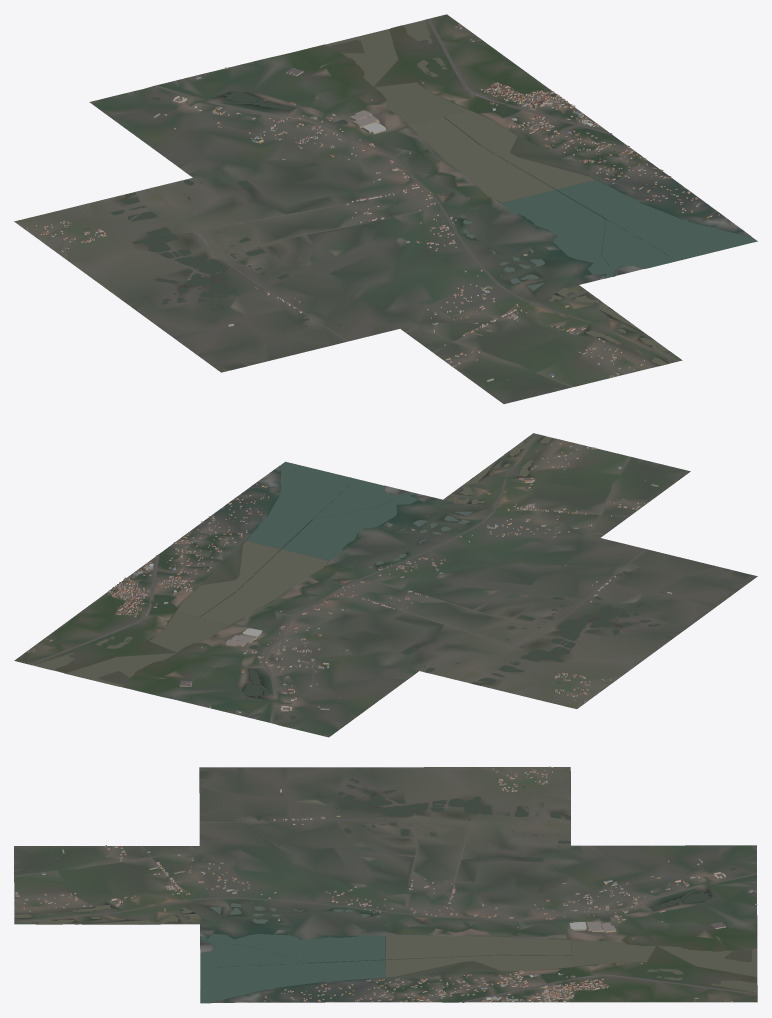
3 renders of one model, top to bottom at view 1: azimuth 30°, elevation 25°; view 2: azimuth 150°, elevation 25°; view 3: azimuth 270°, elevation 25°, orthographic. The views are drawn at different scales.
Parts seen in each view (by area): view 1: ground, water, buildings, roads; view 2: ground, water, buildings, roads; view 3: ground, water, buildings, roads.
Boxes of the visible parts, x1,y1,x2,y2 form: ground: (14, 14, 757, 403); water: (83, 20, 757, 380); buildings: (25, 23, 719, 381); roads: (151, 18, 678, 361); ground: (14, 433, 757, 737); water: (36, 436, 748, 719); buildings: (26, 443, 671, 713); roads: (29, 434, 646, 723); ground: (14, 767, 757, 1003); water: (14, 771, 757, 1002); buildings: (14, 766, 757, 1002); roads: (16, 817, 757, 1002).
Size of the model in its own units: 4220 by 38.05 by 5616.
